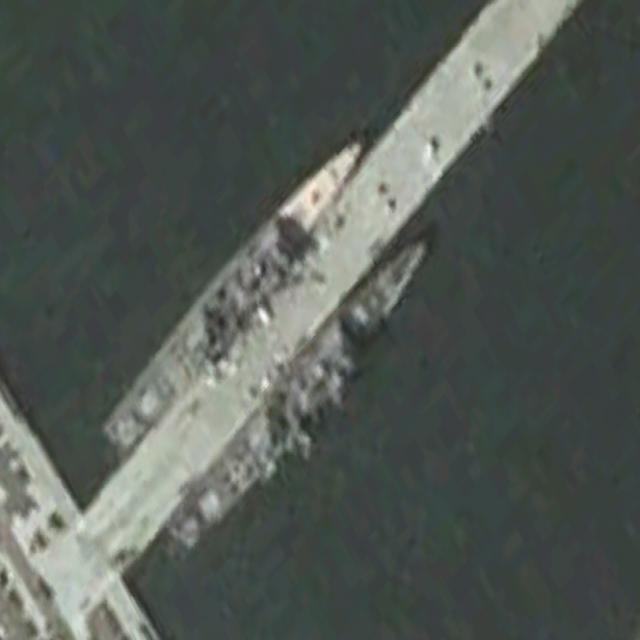Other Warship: (161, 216, 444, 572), (96, 117, 375, 474)
